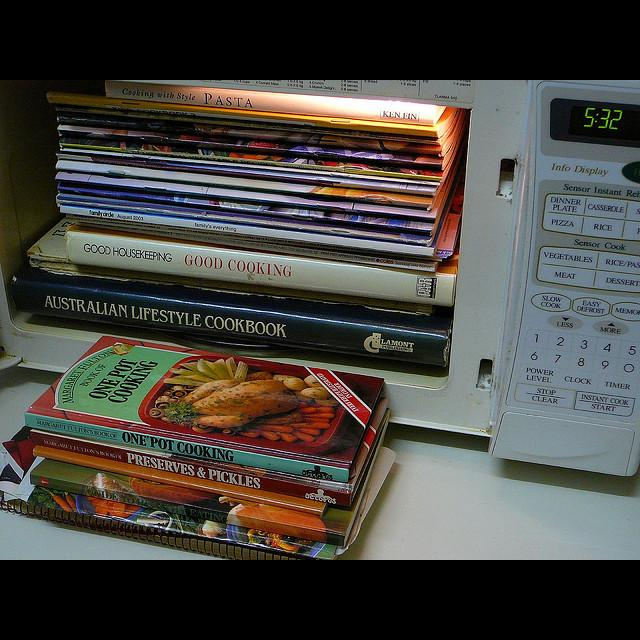Microwave: (0, 81, 640, 478)
